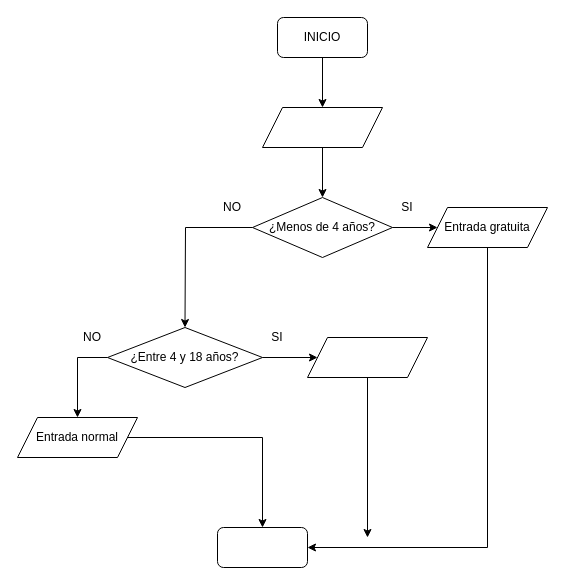
Image size: 565x585. Some labels were removed from this diagram. The shapes that lost their labels are listed below. From the top down, each one's centre as x and y in pixels, then its label:
At (322,127): "Introducir edad".
At (367,357): "Entrada con descuento".
At (262,547): "FIN".
